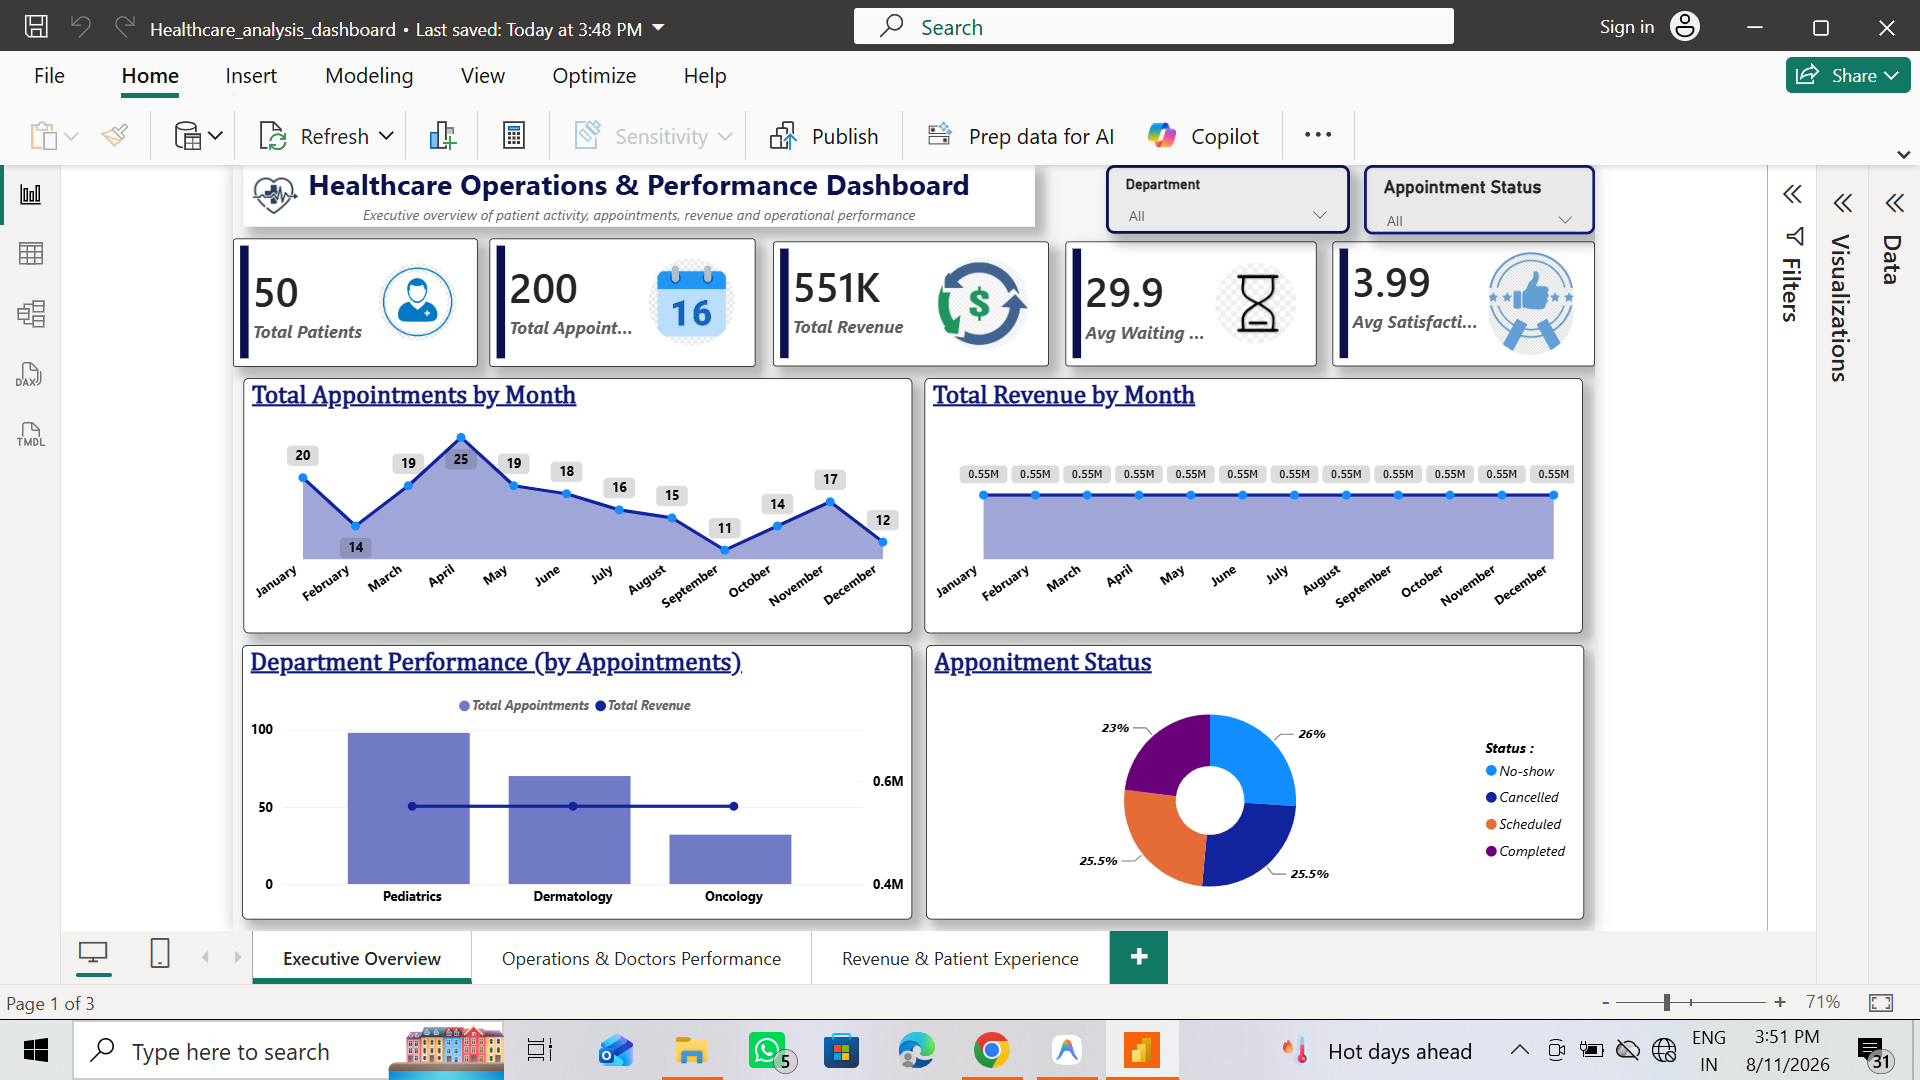

The page's visual inventory and layout, read from the dashboard file:
{"tool":"powerbi","page":{"name":"Executive Overview","canvas":[1280,720],"ordinal":0},"visuals":[{"type":"textbox","title":"Healthcare Operations & Performance Dashboard","box":[9.4,0,744,57.8],"z":0},{"type":"image","box":[0,0,76.6,57.8],"z":1000},{"type":"cardVisual","fields":{"Data":["All measures.Total Patients"]},"box":[0,68.8,229.8,120.4],"z":2000},{"type":"cardVisual","fields":{"Data":["All measures.Total Appointments"]},"box":[240.7,68.8,250.1,120.4],"z":3000},{"type":"cardVisual","fields":{"Data":["All measures.Total Revenue"]},"box":[508,71.9,259.5,117.2],"z":4000},{"type":"cardVisual","fields":{"Data":["All measures.Avg Waiting Time"]},"box":[783.1,71.9,236,117.2],"z":5000},{"type":"cardVisual","fields":{"Data":["All measures.Avg Satisfaction"]},"box":[1033.1,71.9,247,117.2],"z":6000},{"type":"slicer","fields":{"Values":["appointments.status"]},"box":[1062.8,0,217.3,65.6],"z":7000},{"type":"slicer","fields":{"Values":["doctors.specialization"]},"box":[820.9,0,229.3,64.7],"z":8000},{"type":"areaChart","fields":{"Category":["Calender.Date.Variation.Date Hierarchy.Month"],"Y":["All measures.Total Appointments"]},"box":[9.9,200.2,628.8,239.7],"z":9000},{"type":"areaChart","fields":{"Category":["Calender.Date.Variation.Date Hierarchy.Month"],"Y":["All measures.Total Revenue"]},"box":[650,200.2,619,239.7],"z":10000},{"type":"lineStackedColumnComboChart","title":"Department Performance (by Appointments)","fields":{"Category":["doctors.specialization"],"Y":["All measures.Total Appointments"],"Y2":["All measures.Total Revenue"]},"box":[8.5,451.2,630.2,258],"z":11000},{"type":"donutChart","title":"Apponitment Status","fields":{"Category":["appointments.status"],"Y":["All measures.Total Appointments"]},"box":[651.4,451.2,619,258],"z":12000}]}

Visuals, with their boxes on the page's 1280x720 design canvas (x1, y1, x2, y2). These are canvas units, not pixel positions in the 1920x1080 screenshot, which may show the page scaled, cropped or inside an application window:
"Healthcare Operations & Performance Dashboard" textbox: left=9, top=0, right=753, bottom=58
image: left=0, top=0, right=77, bottom=58
cardVisual - All measures.Total Patients: left=0, top=69, right=230, bottom=189
cardVisual - All measures.Total Appointments: left=241, top=69, right=491, bottom=189
cardVisual - All measures.Total Revenue: left=508, top=72, right=768, bottom=189
cardVisual - All measures.Avg Waiting Time: left=783, top=72, right=1019, bottom=189
cardVisual - All measures.Avg Satisfaction: left=1033, top=72, right=1280, bottom=189
slicer - appointments.status: left=1063, top=0, right=1280, bottom=66
slicer - doctors.specialization: left=821, top=0, right=1050, bottom=65
areaChart - Calender.Date.Variation.Date Hierarchy.Month x All measures.Total Appointments: left=10, top=200, right=639, bottom=440
areaChart - Calender.Date.Variation.Date Hierarchy.Month x All measures.Total Revenue: left=650, top=200, right=1269, bottom=440
"Department Performance (by Appointments)" lineStackedColumnComboChart: left=8, top=451, right=639, bottom=709
"Apponitment Status" donutChart: left=651, top=451, right=1270, bottom=709
